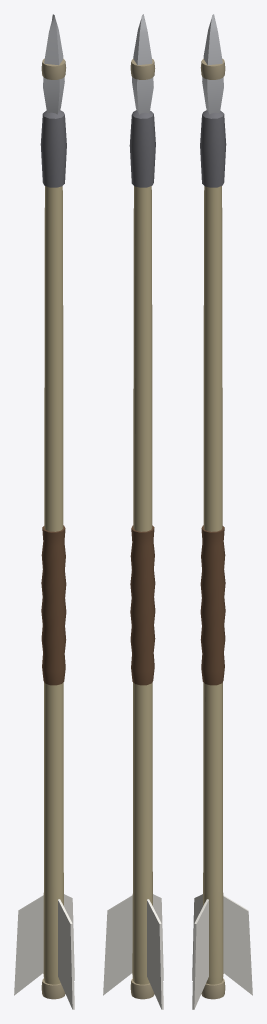
File: fowlers_dart.glb
3 views of the same model, side by side, from view 1: azimuth 30°, elevation 25°; view 2: azimuth 150°, elevation 25°; view 3: azimuth 330°, elevation 25° (orthographic).
Parts seen in each view (by area): view 1: fowlers_dart; view 2: fowlers_dart; view 3: fowlers_dart.
Boxes of the visible parts, x1,y1,x2,y2 form: fowlers_dart: (14, 14, 74, 1009); fowlers_dart: (103, 14, 163, 1009); fowlers_dart: (192, 14, 252, 1009).
Bounding box in the file's own units: 0.0829 × 1.28 × 0.0718.
